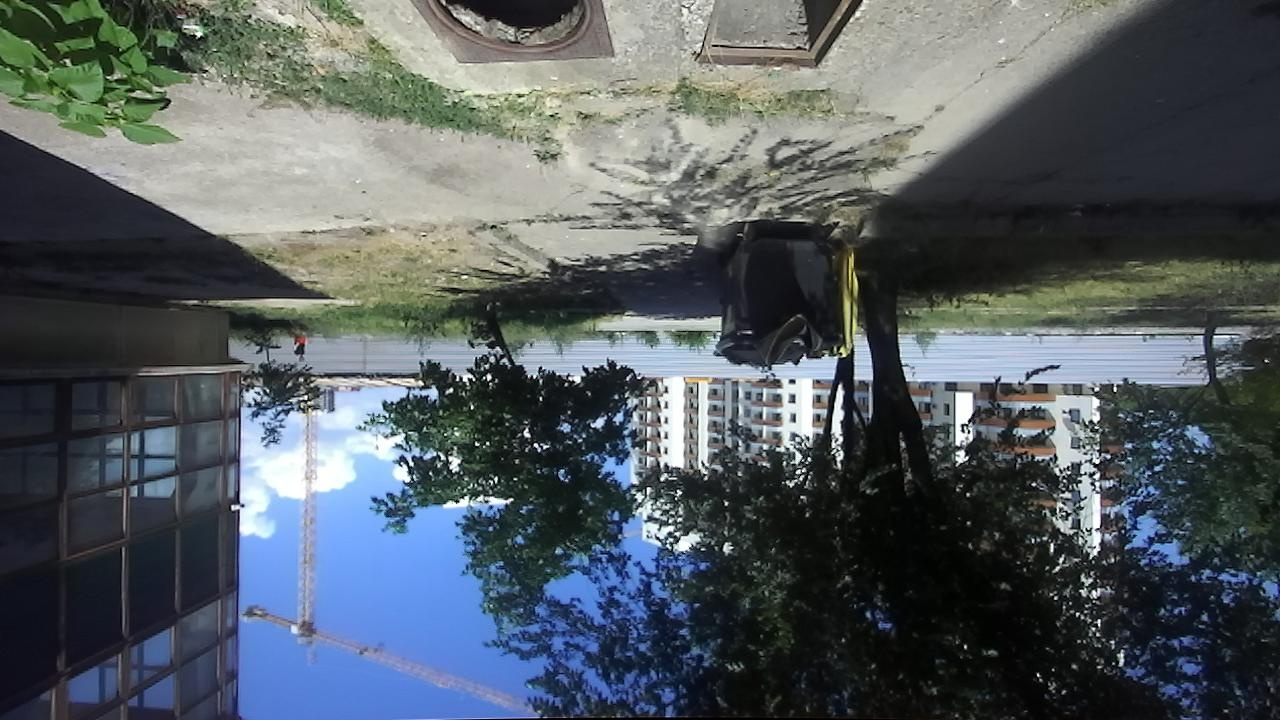drain: (693, 0, 862, 69), (418, 1, 599, 54)
